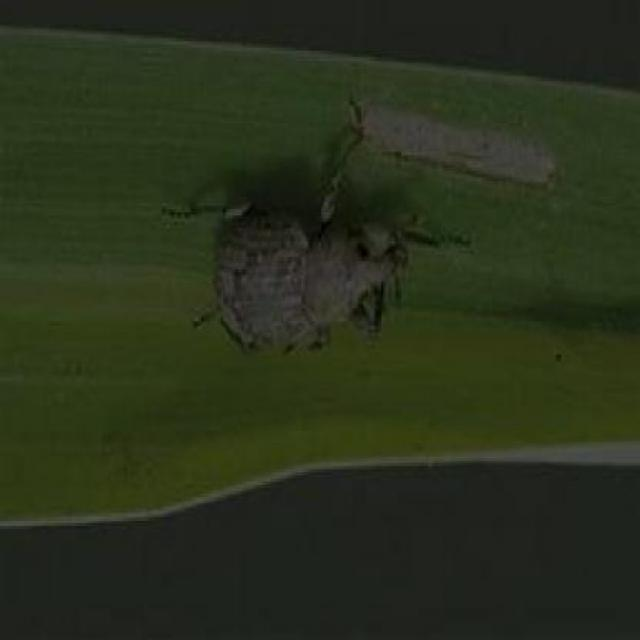rice-bug: (189, 145, 414, 366)
